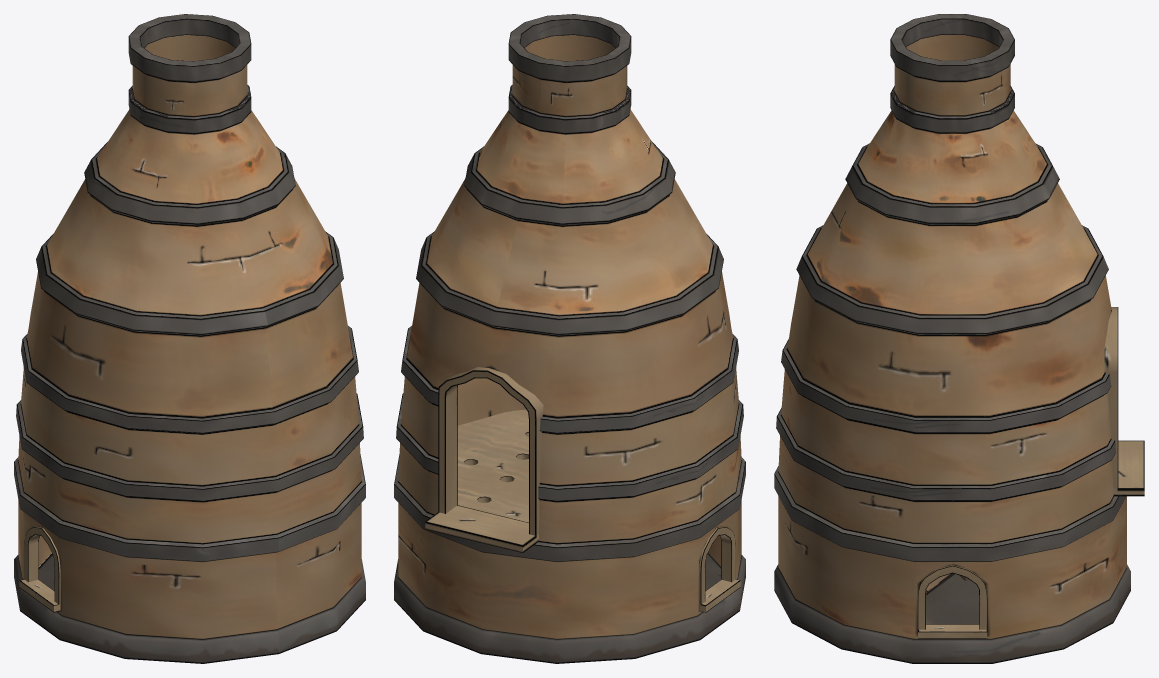
The model's file is pottery_kiln.fbx.
3 views of the same model, side by side, from view 1: azimuth 30°, elevation 25°; view 2: azimuth 150°, elevation 25°; view 3: azimuth 270°, elevation 25° (orthographic).
Parts seen in each view (by area): view 1: pottery_kiln; view 2: pottery_kiln; view 3: pottery_kiln.
Part boxes in pixels (box(x1,y1,x2,y2)): pottery_kiln: box(14, 14, 365, 663); pottery_kiln: box(394, 14, 745, 663); pottery_kiln: box(774, 14, 1144, 663).
Size of the model in its own units: 216 by 370 by 225.
Materials: 1 (1 with a texture image).
